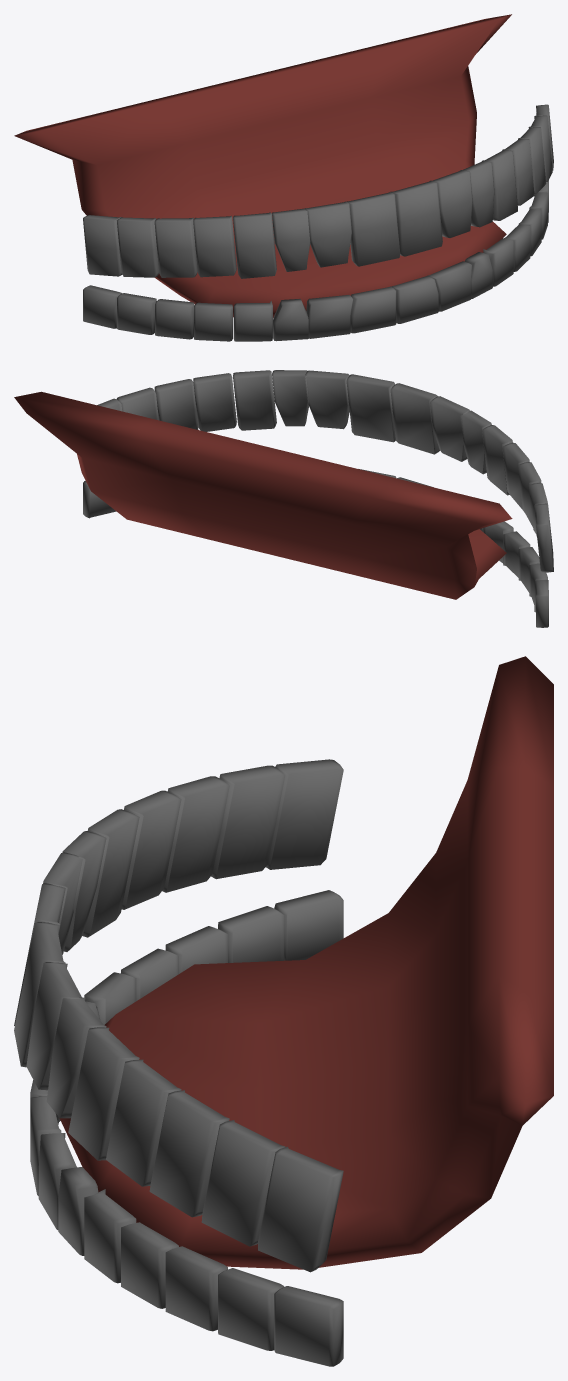
The model's file is Arab_Q8ty_Character.fbx.
3 views of the same model, one above another, from view 1: azimuth 30°, elevation 25°; view 2: azimuth 150°, elevation 25°; view 3: azimuth 270°, elevation 25° (orthographic). The views are drawn at different scales.
Visible parts, largest first — view 1: polyToSubd10, polySurface1, polySurface2; view 2: polyToSubd10, polySurface1, polySurface2; view 3: polyToSubd10, polySurface1, polySurface2.
Part boxes in pixels (x1=…): polyToSubd10: x1=14, y1=14, x2=511, y2=317; polySurface1: x1=83, y1=104, x2=553, y2=278; polySurface2: x1=83, y1=180, x2=548, y2=341; polyToSubd10: x1=14, y1=391, x2=512, y2=599; polySurface1: x1=97, y1=370, x2=553, y2=572; polySurface2: x1=83, y1=469, x2=548, y2=627; polyToSubd10: x1=59, y1=656, x2=553, y2=1269; polySurface1: x1=14, y1=759, x2=343, y2=1272; polySurface2: x1=30, y1=890, x2=343, y2=1366.
Size of the model in its own units: 12.08 by 3.62 by 6.16.
